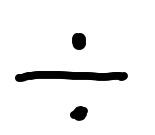div: (13, 32, 127, 122)
